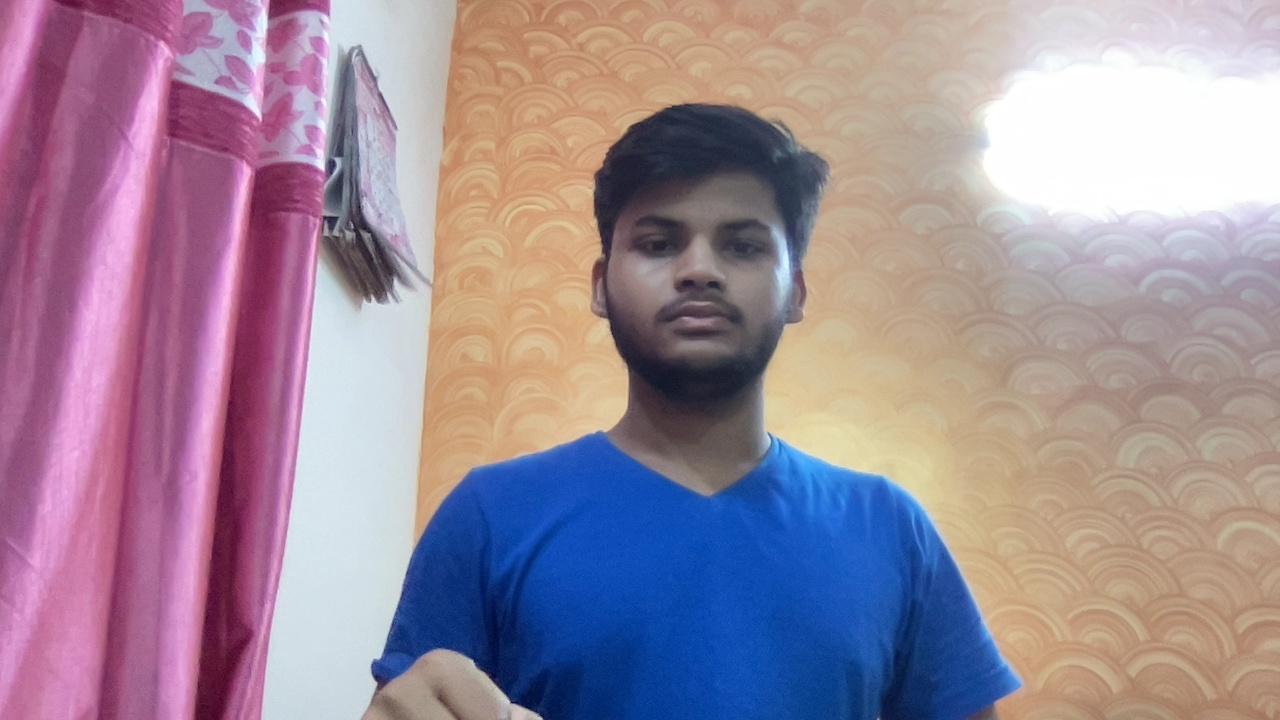yes: (316, 640, 543, 720)
